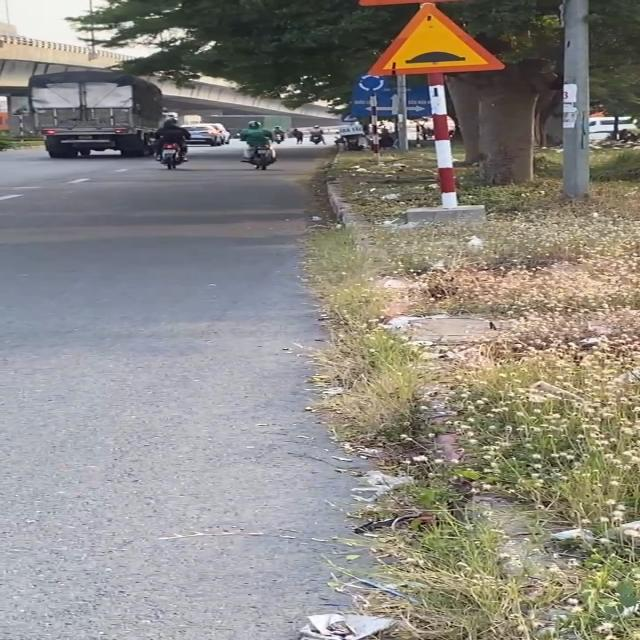221-duong-go-ghe: (368, 3, 508, 75)
303-noi-giao-nhau-chay-theo-vong-xuyen: (356, 74, 388, 92)
